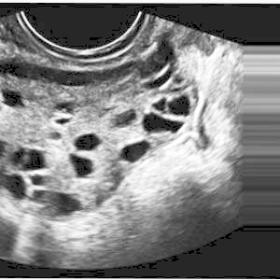PCOS: (143, 111, 183, 138), (52, 190, 84, 216), (65, 154, 95, 178), (122, 141, 151, 164), (3, 172, 25, 201), (170, 92, 190, 123), (110, 109, 141, 127), (72, 132, 102, 150), (28, 147, 46, 174), (4, 89, 25, 109), (151, 95, 169, 115), (56, 98, 76, 115), (54, 116, 74, 129)
